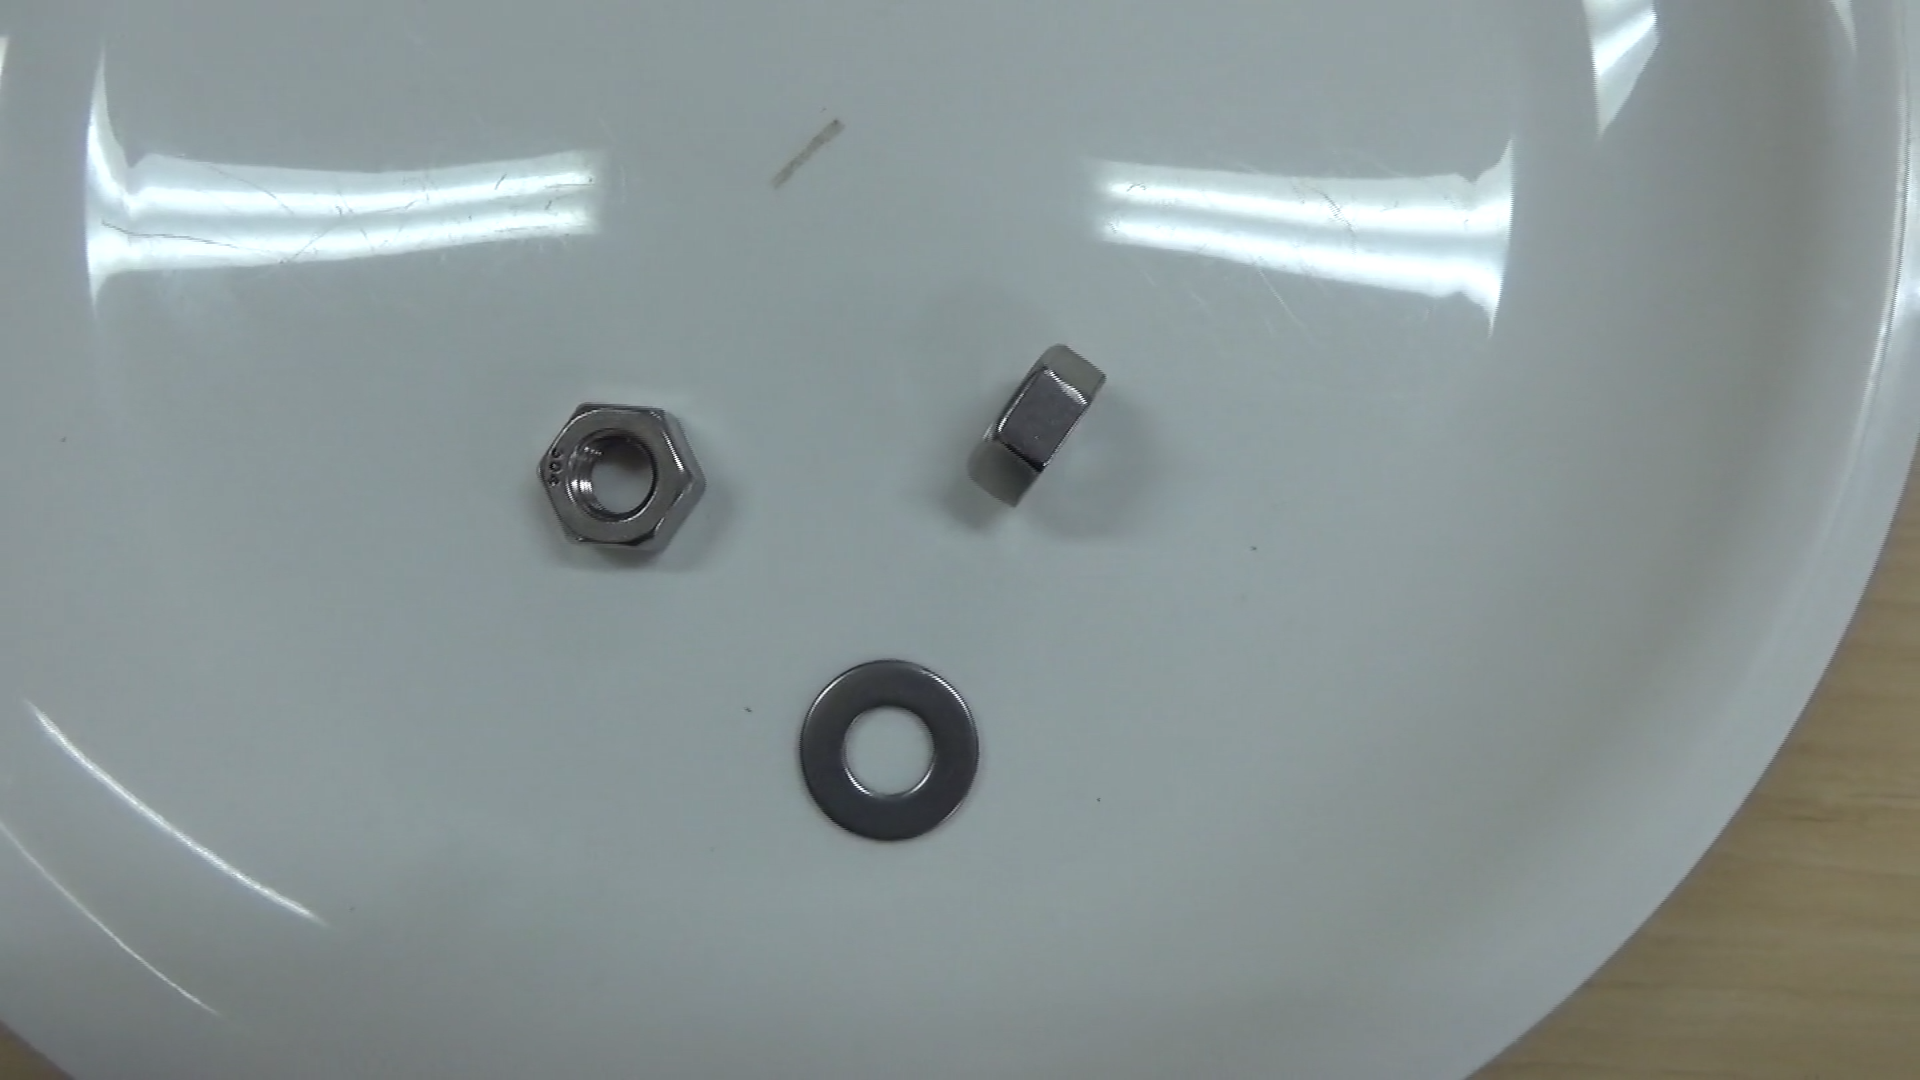nut: (530, 386, 717, 572), (953, 327, 1117, 514)
washer: (786, 649, 996, 851)
